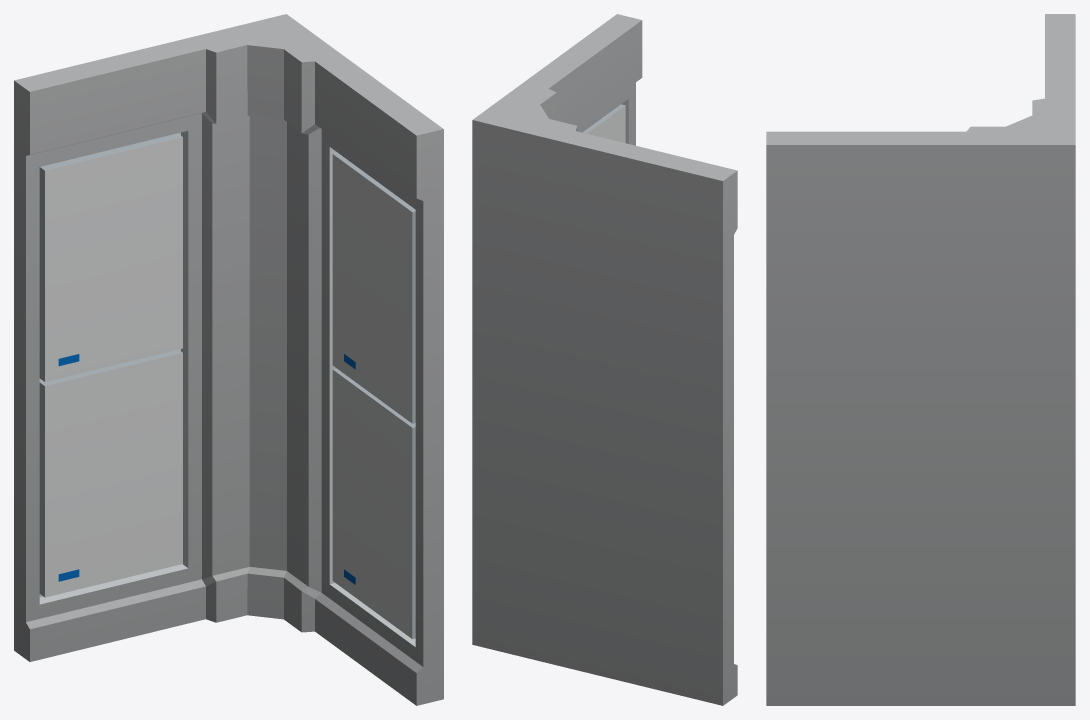
The model's file is Wall_type_A_013.fbx.
3 views of the same model, side by side, from view 1: azimuth 30°, elevation 25°; view 2: azimuth 150°, elevation 25°; view 3: azimuth 270°, elevation 25° (orthographic). The views are drawn at different scales.
Parts seen in each view (by area): view 1: Wall_type_A_013; view 2: Wall_type_A_013; view 3: Wall_type_A_013.
Part boxes in pixels (box(x1,y1,x2,y2)): Wall_type_A_013: box(14, 14, 443, 705); Wall_type_A_013: box(472, 14, 737, 705); Wall_type_A_013: box(766, 14, 1075, 705).
Size of the model in its own units: 200 by 200 by 400.
